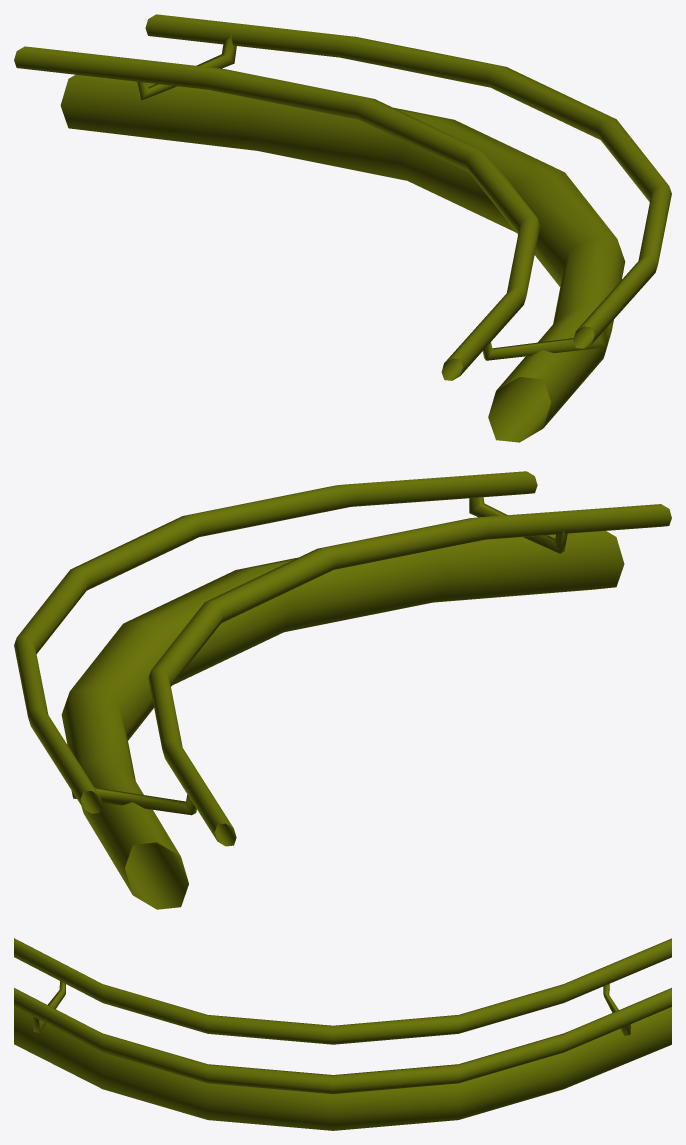
3 renders of one model, top to bottom at view 1: azimuth 30°, elevation 25°; view 2: azimuth 150°, elevation 25°; view 3: azimuth 270°, elevation 25°, orthographic. The views are drawn at different scales.
Visible parts, largest first — view 1: Mesh; view 2: Mesh; view 3: Mesh.
Boxes of the visible parts, x1,y1,x2,y2 form: Mesh: [14, 14, 671, 442]; Mesh: [14, 471, 671, 909]; Mesh: [14, 938, 671, 1130].
Bounding box in the file's own units: 166 × 41.76 × 319.
